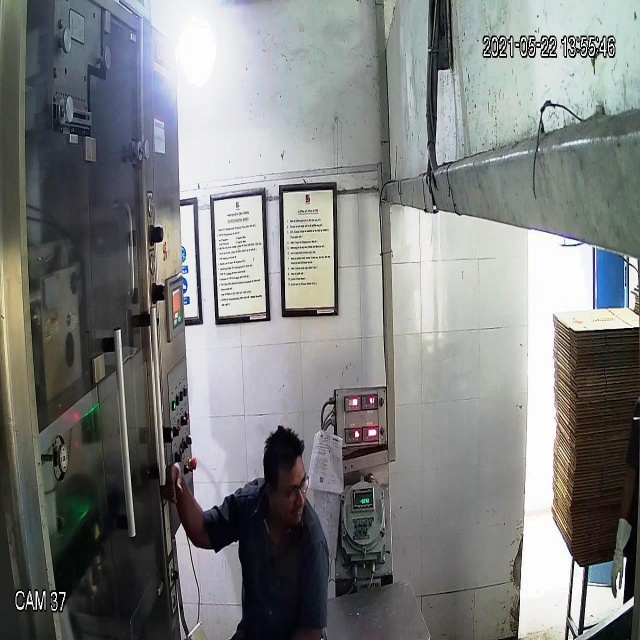Gafas: (264, 470, 311, 505)
